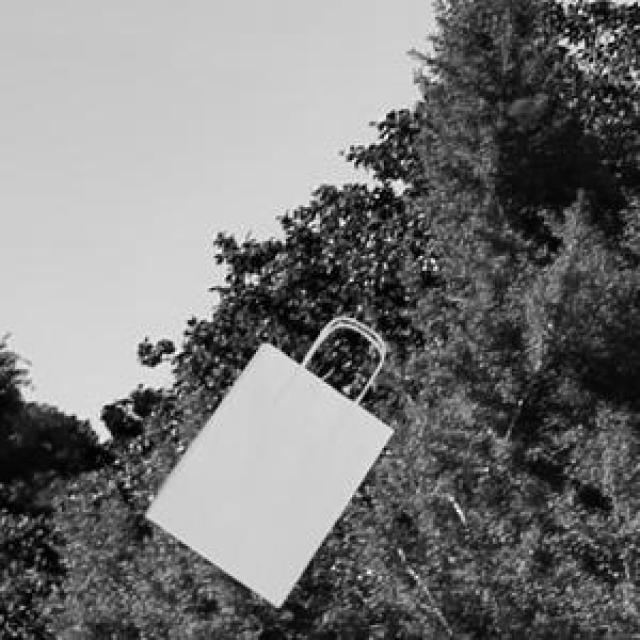paper: (143, 318, 388, 604)
